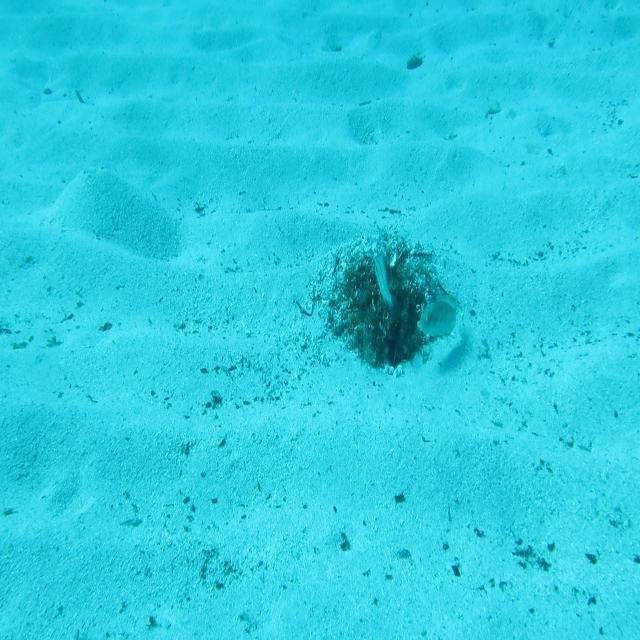BEND: (416, 287, 460, 342)
female: (372, 254, 406, 323)
nest: (321, 223, 454, 365)
